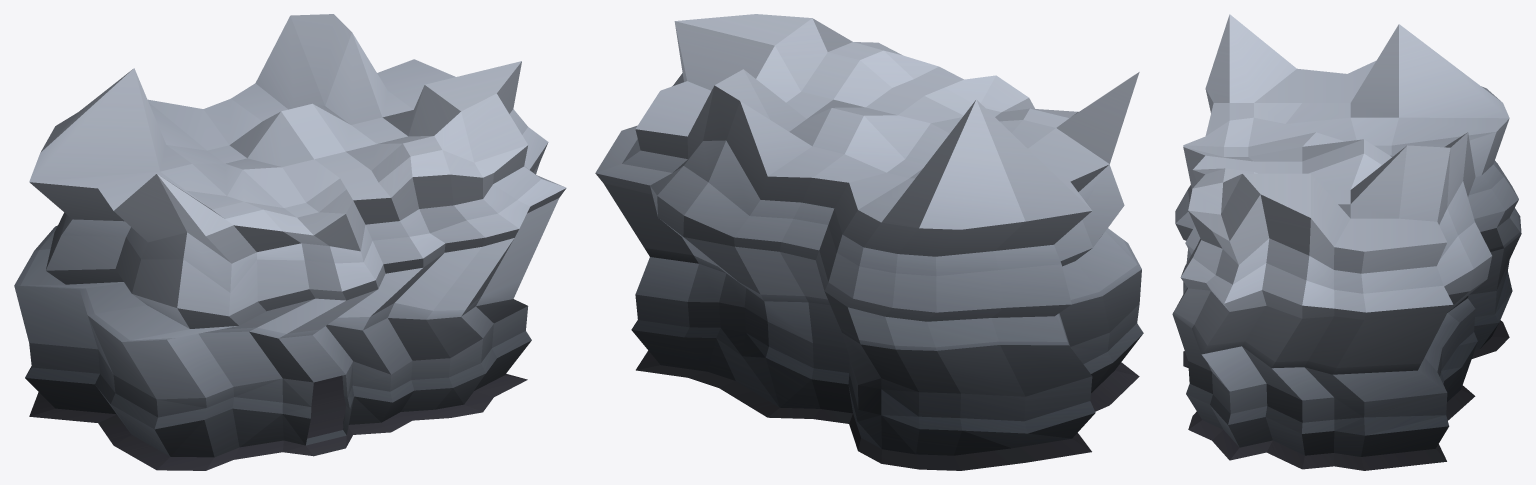
The model's file is Cave_01.fbx.
3 renders of one model, left to right at view 1: azimuth 30°, elevation 25°; view 2: azimuth 150°, elevation 25°; view 3: azimuth 270°, elevation 25°, orthographic. The views are drawn at different scales.
Visible parts, largest first — view 1: wtfCave.002, wtfCave.006, wtfCave.005; view 2: wtfCave.002, wtfCave.006, wtfCave.005; view 3: wtfCave.002, wtfCave.006, wtfCave.005.
Boxes of the visible parts, x1=… form: wtfCave.002: x1=14, y1=14, x2=566, y2=399; wtfCave.006: x1=25, y1=306, x2=531, y2=457; wtfCave.005: x1=29, y1=373, x2=527, y2=470; wtfCave.002: x1=595, y1=14, x2=1141, y2=396; wtfCave.006: x1=631, y1=294, x2=1143, y2=455; wtfCave.005: x1=636, y1=350, x2=1139, y2=470; wtfCave.002: x1=1172, y1=14, x2=1521, y2=401; wtfCave.006: x1=1186, y1=260, x2=1512, y2=456; wtfCave.005: x1=1183, y1=320, x2=1509, y2=470.
Size of the model in its own units: 105 by 67.15 by 71.2.
1 material, 1 textured.
